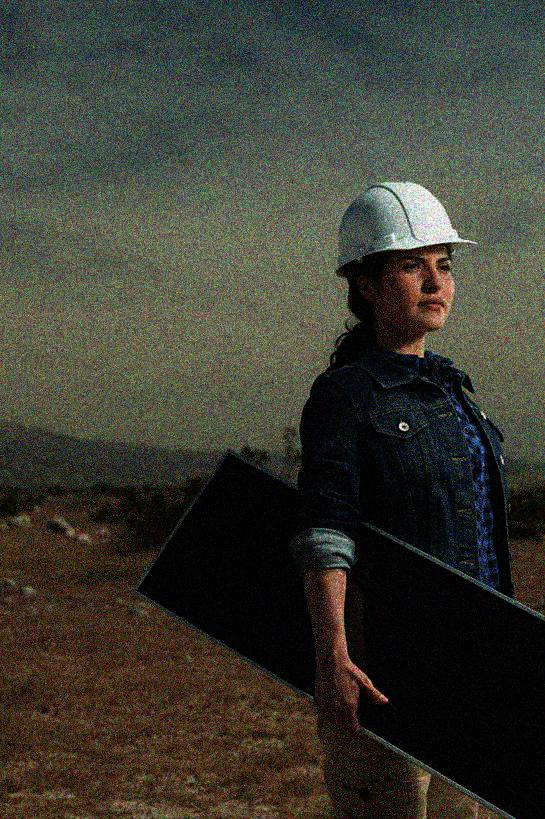helmet: (333, 183, 475, 336)
